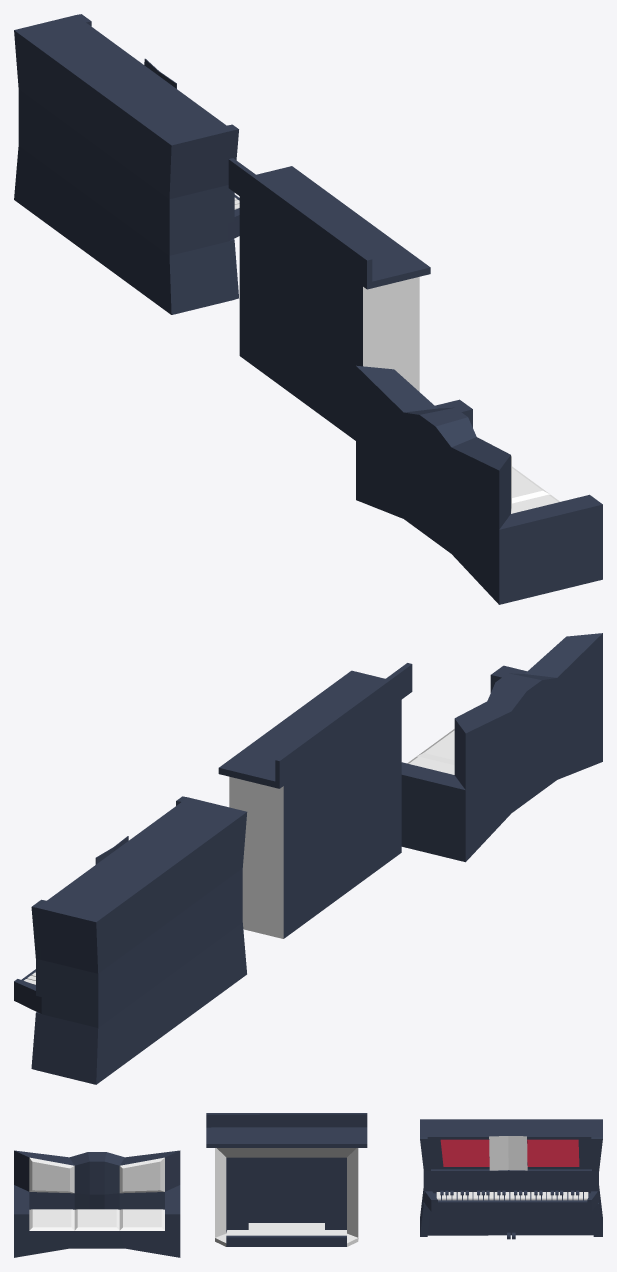
The model's file is assetLivingRoom.fbx.
3 views of the same model, one above another, from view 1: azimuth 30°, elevation 25°; view 2: azimuth 150°, elevation 25°; view 3: azimuth 270°, elevation 25° (orthographic). The views are drawn at different scales.
Visible parts, largest first — view 1: Piano, Fireplace, Lounge; view 2: Piano, Fireplace, Lounge; view 3: Piano, Fireplace, Lounge.
Boxes of the visible parts, box(x1,y1,x2,y2) form: Piano: box(14, 14, 239, 314); Fireplace: box(228, 158, 430, 440); Lounge: box(356, 365, 602, 604); Piano: box(14, 796, 247, 1084); Fireplace: box(218, 663, 412, 938); Lounge: box(401, 633, 602, 862); Piano: box(420, 1119, 602, 1239); Fireplace: box(206, 1113, 367, 1246); Lounge: box(14, 1150, 180, 1257).
Size of the model in its own units: 416 by 727 by 3108.
